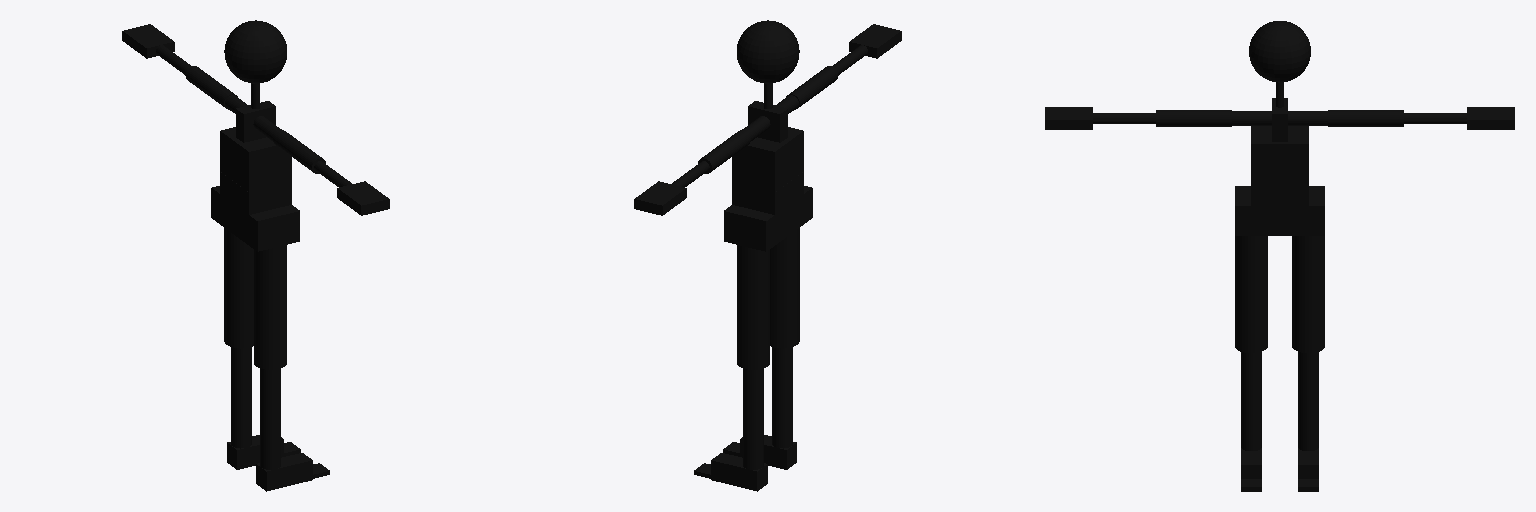
--- Facts derived from the render (not from the file) ---
Views: 3 orthographic renders of the robot side by side, from view 1: azimuth 30°, elevation 25°; view 2: azimuth 150°, elevation 25°; view 3: azimuth 270°, elevation 25°.
Robot: XSensStyleModel_template — 67 links, 66 joints (66 revolute); root link Pelvis; default pose: every joint at zero.
Links seen in each view (by area): view 1: RightUpperLeg, LeftUpperLeg, Head, Pelvis, RightLowerLeg, LeftLowerLeg, T12, L5, L3, RightFoot, RightHand, LeftHand (+4 smaller); view 2: LeftUpperLeg, RightUpperLeg, Head, Pelvis, LeftLowerLeg, RightLowerLeg, T12, L5, L3, LeftFoot, LeftHand, RightHand (+4 smaller); view 3: RightUpperLeg, LeftUpperLeg, Pelvis, Head, RightLowerLeg, LeftLowerLeg, T12, RightUpperArm, LeftUpperArm, L5, L3, RightHand (+8 smaller).
Link boxes in pixels (x1=…): RightUpperLeg: x1=254, y1=245, x2=286, y2=369; LeftUpperLeg: x1=224, y1=228, x2=253, y2=348; Head: x1=224, y1=20, x2=286, y2=83; Pelvis: x1=211, y1=186, x2=299, y2=251; RightLowerLeg: x1=260, y1=369, x2=280, y2=469; LeftLowerLeg: x1=231, y1=347, x2=251, y2=448; T12: x1=220, y1=127, x2=291, y2=171; L5: x1=220, y1=172, x2=291, y2=214; L3: x1=220, y1=151, x2=291, y2=192; RightFoot: x1=256, y1=453, x2=312, y2=491; RightHand: x1=337, y1=181, x2=389, y2=215; LeftHand: x1=122, y1=24, x2=174, y2=58; LeftUpperLeg: x1=737, y1=245, x2=769, y2=369; RightUpperLeg: x1=770, y1=228, x2=799, y2=348; Head: x1=737, y1=20, x2=799, y2=83; Pelvis: x1=724, y1=186, x2=812, y2=251; LeftLowerLeg: x1=743, y1=369, x2=763, y2=469; RightLowerLeg: x1=772, y1=347, x2=792, y2=448; T12: x1=732, y1=127, x2=803, y2=171; L5: x1=732, y1=172, x2=803, y2=214; L3: x1=732, y1=151, x2=803, y2=192; LeftFoot: x1=711, y1=453, x2=767, y2=491; LeftHand: x1=634, y1=181, x2=686, y2=215; RightHand: x1=849, y1=24, x2=901, y2=58; RightUpperLeg: x1=1235, y1=236, x2=1267, y2=352; LeftUpperLeg: x1=1292, y1=236, x2=1324, y2=352; Pelvis: x1=1235, y1=186, x2=1324, y2=235; Head: x1=1249, y1=21, x2=1310, y2=82; RightLowerLeg: x1=1241, y1=352, x2=1261, y2=450; LeftLowerLeg: x1=1298, y1=352, x2=1318, y2=450; T12: x1=1251, y1=126, x2=1308, y2=163; RightUpperArm: x1=1156, y1=110, x2=1231, y2=126; LeftUpperArm: x1=1328, y1=110, x2=1403, y2=126; L5: x1=1251, y1=184, x2=1308, y2=205; L3: x1=1251, y1=164, x2=1308, y2=183; RightHand: x1=1045, y1=107, x2=1092, y2=129.
Size in the robot's own frame: 0.3344 by 1.69 by 1.77 metres.
Geometry: primitives only (box / cylinder / sphere), no mesh files.

robot.urdf — XSensStyleModel_template:
<!--URDF MODEL 66 DoFs-->

<robot name="XSensStyleModel_template">

<material name="color">
    <color rgba="0.1 0.1 0.1 1"/>
</material>

<!--To open this model with Gazebo replace the null masses, inertias and dimensions of the 'fake links f1 and f2'-->
    <!--LINKS-->
	<!--Link base (1)-->
	<link name="Pelvis">
        <inertial>
            <mass value="6.352"/>
			<!--COM origin wrt pHipOrigin-->
            <origin xyz="0           0    0.062435" rpy="0 0 0" />
            <inertia ixx="0.064101" iyy="0.023834" izz="0.07276" ixy="0" ixz="0" iyz="0"/>
        </inertial>

        <visual>
			<!--box origin wrt pHipOrigin-->
            <origin xyz="0           0    0.062435" rpy="0 0 0" />
            <geometry>
                <box size="0.17519     0.32675     0.11973"/>
            </geometry>
            <material name="color"/>
        </visual>

        <collision>
			<!--box origin wrt pHipOrigin-->
            <origin xyz="0           0    0.062435" rpy="0 0 0" />
            <geometry>
                <box size="0.17519     0.32675     0.11973"/>
            </geometry>
        </collision>

    </link>
    <!--Chain from (2) to (7)-->
	<link name="L5_f1">
        <inertial>
            <mass value="0"/>
            <origin xyz="0 0 0" rpy="0 0 0" />
            <inertia ixx="0" iyy="0" izz="0" ixy="0" ixz="0" iyz="0"/>
        </inertial>
    </link>
	<link name="L5_f2">
        <inertial>
            <mass value="0"/>
            <origin xyz="0 0 0" rpy="0 0 0" />
            <inertia ixx="0" iyy="0" izz="0" ixy="0" ixz="0" iyz="0"/>
        </inertial>
    </link>
	<link name="L5">
        <inertial>
            <mass value="8.0988"/>
			<!--COM origin wrt jL5S1-->
            <origin xyz="0           0    0.043965" rpy="0 0 0" />
            <inertia ixx="0.034135" iyy="0.025932" izz="0.049631" ixy="0" ixz="0" iyz="0"/>
        </inertial>

        <visual>
			<!--box origin origin wrt jL5S1-->
            <origin xyz="0           0    0.043965" rpy="0 0 0" />
            <geometry>
                <box size="0.17519     0.20699     0.08793"/>
            </geometry>
            <material name="color"/>
        </visual>

        <collision>
			<!--box origin origin wrt jL5S1-->
            <origin xyz="0           0    0.043965" rpy="0 0 0" />
            <geometry>
                <box size="0.17519     0.20699     0.08793"/>
            </geometry>
        </collision>
    </link>
	<link name="L3_f1">
        <inertial>
            <mass value="0"/>
            <origin xyz="0 0 0" rpy="0 0 0" />
            <inertia ixx="0" iyy="0" izz="0" ixy="0" ixz="0" iyz="0"/>
        </inertial>
    </link>
	<link name="L3_f2">
        <inertial>
            <mass value="0"/>
            <origin xyz="0 0 0" rpy="0 0 0" />
            <inertia ixx="0" iyy="0" izz="0" ixy="0" ixz="0" iyz="0"/>
        </inertial>
    </link>
	<link name="L3">
        <inertial>
            <mass value="8.0988"/>
			<!--COM origin wrt jL4L3-->
            <origin xyz="0           0    0.039709" rpy="0 0 0" />
            <inertia ixx="0.033174" iyy="0.024971" izz="0.049631" ixy="0" ixz="0" iyz="0"/>
        </inertial>

        <visual>
			<!--box origin origin wrt jL4L3-->
            <origin xyz="0           0    0.039709" rpy="0 0 0" />
            <geometry>
                <box size="0.17519     0.20699    0.079417"/>
            </geometry>
            <material name="color"/>
        </visual>

        <collision>
			<!--box origin origin wrt jL4L3-->
            <origin xyz="0           0    0.039709" rpy="0 0 0" />
            <geometry>
                <box size="0.17519     0.20699    0.079417"/>
            </geometry>
        </collision>
    </link>
	<link name="T12_f1">
        <inertial>
            <mass value="0"/>
            <origin xyz="0 0 0" rpy="0 0 0" />
            <inertia ixx="0" iyy="0" izz="0" ixy="0" ixz="0" iyz="0"/>
        </inertial>
    </link>
	<link name="T12_f2">
        <inertial>
            <mass value="0"/>
            <origin xyz="0 0 0" rpy="0 0 0" />
            <inertia ixx="0" iyy="0" izz="0" ixy="0" ixz="0" iyz="0"/>
        </inertial>
    </link>
	<link name="T12">
        <inertial>
            <mass value="8.0988"/>
			<!--COM origin wrt jL1T12-->
            <origin xyz="0           0    0.039709" rpy="0 0 0" />
            <inertia ixx="0.033174" iyy="0.024971" izz="0.049631" ixy="0" ixz="0" iyz="0"/>
        </inertial>

        <visual>
			<!--box origin origin wrt jL1T12-->
            <origin xyz="0           0    0.039709" rpy="0 0 0" />
            <geometry>
                <box size="0.17519     0.20699    0.079417"/>
            </geometry>
            <material name="color"/>
        </visual>

        <collision>
			<!--box origin origin wrt jL1T12-->
            <origin xyz="0           0    0.039709" rpy="0 0 0" />
            <geometry>
                <box size="0.17519     0.20699    0.079417"/>
            </geometry>
        </collision>
    </link>
	<link name="T8_f1">
        <inertial>
            <mass value="0"/>
            <origin xyz="0 0 0" rpy="0 0 0" />
            <inertia ixx="0" iyy="0" izz="0" ixy="0" ixz="0" iyz="0"/>
        </inertial>
    </link>
	<link name="T8_f2">
        <inertial>
            <mass value="0"/>
            <origin xyz="0 0 0" rpy="0 0 0" />
            <inertia ixx="0" iyy="0" izz="0" ixy="0" ixz="0" iyz="0"/>
        </inertial>
    </link>
	<link name="T8">
        <inertial>
            <mass value="3.176"/>
			<!--COM origin wrt jT9T8-->
            <origin xyz="0           0    0.056134" rpy="0 0 0" />
            <inertia ixx="0.0041415" iyy="0.0080363" izz="0.0055061" ixy="0" ixz="0" iyz="0"/>
        </inertial>

        <visual>
			<!--box origin wrt jT9T8-->
            <origin xyz="0           0    0.056134" rpy="0 0 0" />
            <geometry>
                <box size="0.13327    0.055172     0.11227"/>
            </geometry>
            <material name="color"/>
        </visual>

        <collision>
			<!--box origin wrt jT9T8-->
            <origin xyz="0           0    0.056134" rpy="0 0 0" />
            <geometry>
                <box size="0.13327    0.055172     0.11227"/>
            </geometry>
        </collision>

    </link>
	<link name="Neck_f1">
        <inertial>
            <mass value="0"/>
            <origin xyz="0 0 0" rpy="0 0 0" />
            <inertia ixx="0" iyy="0" izz="0" ixy="0" ixz="0" iyz="0"/>
        </inertial>
    </link>
	<link name="Neck_f2">
        <inertial>
            <mass value="0"/>
            <origin xyz="0 0 0" rpy="0 0 0" />
            <inertia ixx="0" iyy="0" izz="0" ixy="0" ixz="0" iyz="0"/>
        </inertial>
    </link>
	<link name="Neck">
        <inertial>
            <mass value="0.9528"/>
			<!--COM origin wrt jT1C7-->
            <origin xyz="0           0    0.052133" rpy="0 0 0" />
            <inertia ixx="0.0011087" iyy="0.0011087" izz="0.00049098" ixy="0" ixz="0" iyz="0"/>
        </inertial>

        <visual>
			<!--box origin wrt jT1C7-->
            <origin xyz="0           0    0.052133" rpy="0 0 0" />
            <geometry>
		<cylinder length="0.10427" radius="0.016051"/>
            </geometry>
            <material name="color"/>
        </visual>

        <collision>
			<!--box origin wrt jT1C7-->
            <origin xyz="0           0    0.052133" rpy="0 0 0" />
            <geometry>
                <cylinder length="0.10427" radius="0.016051"/>
            </geometry>
        </collision>
    </link>
	<link name="Head_f1">
        <inertial>
            <mass value="0"/>
            <origin xyz="0 0 0" rpy="0 0 0" />
            <inertia ixx="0" iyy="0" izz="0" ixy="0" ixz="0" iyz="0"/>
        </inertial>
    </link>
	<link name="Head_f2">
        <inertial>
            <mass value="0"/>
            <origin xyz="0 0 0" rpy="0 0 0" />
            <inertia ixx="0" iyy="0" izz="0" ixy="0" ixz="0" iyz="0"/>
        </inertial>
    </link>
	<link name="Head">
        <inertial>
            <mass value="2.8584"/>
			<!--COM origin wrt jC1Head-->
            <origin xyz="0           0     0.11223" rpy="0 0 0" />
            <inertia ixx="0.0144" iyy="0.0144" izz="0.0144" ixy="0" ixz="0" iyz="0"/>
        </inertial>

        <visual>
			<!--boc origin wrt jC1Head-->
            <origin xyz="0           0     0.11223" rpy="0 0 0" />
            <geometry>
                <sphere radius="0.11223"/>
            </geometry>
            <material name="color"/>
        </visual>

        <collision>
			<!--box origin wrt jC1Head-->
            <origin xyz="0           0     0.11223" rpy="0 0 0" />
            <geometry>
                <sphere radius="0.11223"/>
            </geometry>
        </collision>

    </link>
	<!--Chain from (8) to (11)-->
	<link name="RightShoulder_f1">
        <inertial>
            <mass value="0"/>
            <origin xyz="0 0 0" rpy="0 0 0" />
            <inertia ixx="0" iyy="0" izz="0" ixy="0" ixz="0" iyz="0"/>
        </inertial>
    </link>
	<link name="RightShoulder_f2">
        <inertial>
            <mass value="0"/>
            <origin xyz="0 0 0" rpy="0 0 0" />
            <inertia ixx="0" iyy="0" izz="0" ixy="0" ixz="0" iyz="0"/>
        </inertial>
    </link>
	<link name="RightShoulder">
        <inertial>
            <mass value="2.4614"/>
			<!--COM origin wrt jRightC7Shoulder-->
            <origin xyz="0   -0.073328           0" rpy="0 0 0" />
            <inertia ixx="0.0048377" iyy="0.0008521" izz="0.0048377" ixy="0" ixz="0" iyz="0"/>
        </inertial>

        <visual>
			<!--box origin wrt jRightC7Shoulder. RPY rotated of pi/2.-->
            <origin xyz="0   -0.073328           0" rpy="1.5708 0 0" />
            <geometry>
                <cylinder length="0.14666" radius="0.026313"/>
            </geometry>
            <material name="color"/>
        </visual>

        <collision>
			<!--box origin wrt jRightC7Shoulder. RPY rotated of pi/2.-->
            <origin xyz="0   -0.073328           0" rpy="1.5708 0 0" />
            <geometry>
                <cylinder length="0.14666" radius="0.026313"/>
            </geometry>
        </collision>

    </link>
	<link name="RightUpperArm_f1">
        <inertial>
            <mass value="0"/>
            <origin xyz="0 0 0" rpy="0 0 0" />
            <inertia ixx="0" iyy="0" izz="0" ixy="0" ixz="0" iyz="0"/>
        </inertial>
    </link>
	<link name="RightUpperArm_f2">
        <inertial>
            <mass value="0"/>
            <origin xyz="0 0 0" rpy="0 0 0" />
            <inertia ixx="0" iyy="0" izz="0" ixy="0" ixz="0" iyz="0"/>
        </inertial>
    </link>
    <link name="RightUpperArm">
        <inertial>
            <mass value="2.382"/>
			<!--COM origin wrt jRightShoulder-->
            <origin xyz="0     -0.1369           0" rpy="0 0 0" />
            <inertia ixx="0.015417" iyy="0.0010729" izz="0.015417" ixy="0" ixz="0" iyz="0"/>
        </inertial>

        <visual>
			<!--box origin wrt jRightShoulder. RPY rotated of pi/2.-->
            <origin xyz="0     -0.1369           0" rpy="1.5708 0 0" />
            <geometry>
                <cylinder length="0.27379" radius="0.030014"/>
            </geometry>
            <material name="color"/>
        </visual>

        <collision>
			<!--box origin wrt jRightShoulder. RPY rotated of pi/2.-->
            <origin xyz="0     -0.1369           0" rpy="1.5708 0 0" />
            <geometry>
                <cylinder length="0.27379" radius="0.030014"/>
            </geometry>
        </collision>

    </link>
	<link name="RightForeArm_f1">
        <inertial>
            <mass value="0"/>
            <origin xyz="0 0 0" rpy="0 0 0" />
            <inertia ixx="0" iyy="0" izz="0" ixy="0" ixz="0" iyz="0"/>
        </inertial>
    </link>
	<link name="RightForeArm_f2">
        <inertial>
            <mass value="0"/>
            <origin xyz="0 0 0" rpy="0 0 0" />
            <inertia ixx="0" iyy="0" izz="0" ixy="0" ixz="0" iyz="0"/>
        </inertial>
    </link>
	<link name="RightForeArm">
        <inertial>
            <mass value="1.588"/>
			<!--COM origin wrt jRightElbow-->
            <origin xyz="0    -0.11359           0" rpy="0 0 0" />
            <inertia ixx="0.0069888" iyy="0.0003179" izz="0.0069888" ixy="0" ixz="0" iyz="0"/>
        </inertial>

        <visual>
			<!--box origin wrt jRightElbow. RPY rotated of pi/2.-->
            <origin xyz="0    -0.11359           0" rpy="1.5708 0 0" />
            <geometry>
                <cylinder length="0.22718" radius="0.020009"/>
            </geometry>
            <material name="color"/>
        </visual>

        <collision>
			<!--box origin wrt jRightElbow. RPY rotated of pi/2.-->
            <origin xyz="0    -0.11359           0" rpy="1.5708 0 0" />
            <geometry>
                <cylinder length="0.22718" radius="0.020009"/>
            </geometry>
        </collision>

    </link>
	<link name="RightHand_f1">
        <inertial>
            <mass value="0"/>
            <origin xyz="0 0 0" rpy="0 0 0" />
            <inertia ixx="0" iyy="0" izz="0" ixy="0" ixz="0" iyz="0"/>
        </inertial>
    </link>
	<link name="RightHand_f2">
        <inertial>
            <mass value="0"/>
            <origin xyz="0 0 0" rpy="0 0 0" />
            <inertia ixx="0" iyy="0" izz="0" ixy="0" ixz="0" iyz="0"/>
        </inertial>
    </link>
	<link name="RightHand">
        <inertial>
            <mass value="0.4764"/>
			<!--COM origin wrt jRightWrist-->
            <origin xyz="0   -0.086009           0" rpy="0 0 0" />
            <inertia ixx="0.0012383" iyy="0.00058568" izz="0.0016968" ixy="0" ixz="0" iyz="0"/>
        </inertial>

        <visual>
			<!--box origin wrt jRightWrist-->
            <origin xyz="0   -0.086009           0" rpy="0 0 0" />
            <geometry>
                <box size="0.11468     0.17202    0.040019"/>
            </geometry>
            <material name="color"/>
        </visual>

        <collision>
			<!--box origin wrt jRightWrist-->
            <origin xyz="0   -0.086009           0" rpy="0 0 0" />
            <geometry>
                <box size="0.11468     0.17202    0.040019"/>
            </geometry>
        </collision>

    </link>
	<!--Chain from (12) to (15)-->
	<link name="LeftShoulder_f1">
        <inertial>
            <mass value="0"/>
            <origin xyz="0 0 0" rpy="0 0 0" />
            <inertia ixx="0" iyy="0" izz="0" ixy="0" ixz="0" iyz="0"/>
        </inertial>
    </link>
	<link name="LeftShoulder_f2">
        <inertial>
            <mass value="0"/>
            <origin xyz="0 0 0" rpy="0 0 0" />
            <inertia ixx="0" iyy="0" izz="0" ixy="0" ixz="0" iyz="0"/>
        </inertial>
    </link>
	<link name="LeftShoulder">
        <inertial>
            <mass value="2.4614"/>
			<!--COM origin wrt jLeftC7Shoulder-->
            <origin xyz="0    0.073328           0" rpy="0 0 0" />
            <inertia ixx="0.0048377" iyy="0.0008521" izz="0.0048377" ixy="0" ixz="0" iyz="0"/>
        </inertial>

        <visual>
			<!--box origin wrt jLeftC7Shoulder. RPY rotated of pi/2.-->
            <origin xyz="0    0.073328           0" rpy="1.5708 0 0" />
            <geometry>
                <cylinder length="0.14666" radius="0.026313"/>
            </geometry>
            <material name="color"/>
        </visual>

        <collision>
			<!--box origin wrt jLeftC7Shoulder. RPY rotated of pi/2.-->
            <origin xyz="0    0.073328           0" rpy="1.5708 0 0" />
            <geometry>
                <cylinder length="0.14666" radius="0.026313"/>
            </geometry>
        </collision>

    </link>
	<link name="LeftUpperArm_f1">
        <inertial>
            <mass value="0"/>
            <origin xyz="0 0 0" rpy="0 0 0" />
            <inertia ixx="0" iyy="0" izz="0" ixy="0" ixz="0" iyz="0"/>
        </inertial>
    </link>
	<link name="LeftUpperArm_f2">
        <inertial>
            <mass value="0"/>
            <origin xyz="0 0 0" rpy="0 0 0" />
            <inertia ixx="0" iyy="0" izz="0" ixy="0" ixz="0" iyz="0"/>
        </inertial>
    </link>
	<link name="LeftUpperArm">
        <inertial>
            <mass value="2.382"/>
			<!--COM origin wrt jLeftShoulder-->
            <origin xyz="0      0.1369           0" rpy="0 0 0" />
            <inertia ixx="0.015417" iyy="0.0010729" izz="0.015417" ixy="0" ixz="0" iyz="0"/>
        </inertial>

        <visual>
			<!--box origin wrt jLeftShoulder. RPY rotated of pi/2.-->
            <origin xyz="0      0.1369           0" rpy="1.5708 0 0" />
            <geometry>
                <cylinder length="0.27379" radius="0.030014"/>
            </geometry>
            <material name="color"/>
        </visual>

        <collision>
			<!--box origin wrt jLeftShoulder. RPY rotated of pi/2.-->
            <origin xyz="0      0.1369           0" rpy="1.5708 0 0" />
            <geometry>
                <cylinder length="0.27379" radius="0.030014"/>
            </geometry>
        </collision>

    </link>
	<link name="LeftForeArm_f1">
        <inertial>
            <mass value="0"/>
            <origin xyz="0 0 0" rpy="0 0 0" />
            <inertia ixx="0" iyy="0" izz="0" ixy="0" ixz="0" iyz="0"/>
        </inertial>
    </link>
	<link name="LeftForeArm_f2">
        <inertial>
            <mass value="0"/>
            <origin xyz="0 0 0" rpy="0 0 0" />
            <inertia ixx="0" iyy="0" izz="0" ixy="0" ixz="0" iyz="0"/>
        </inertial>
    </link>
	<link name="LeftForeArm">
        <inertial>
            <mass value="1.588"/>
			<!--COM origin wrt jLeftElbow-->
            <origin xyz="0     0.11359           0" rpy="0 0 0" />
            <inertia ixx="0.0069888" iyy="0.0003179" izz="0.0069888" ixy="0" ixz="0" iyz="0"/>
        </inertial>

        <visual>
			<!--box origin wrt jLeftElbow. RPY rotated of pi/2.-->
            <origin xyz="0     0.11359           0" rpy="1.5708 0 0" />
            <geometry>
                <cylinder length="0.22718" radius="0.020009"/>
            </geometry>
            <material name="color"/>
        </visual>

        <collision>
			<!--box origin wrt jLeftElbow. RPY rotated of pi/2.-->
            <origin xyz="0     0.11359           0" rpy="1.5708 0 0" />
            <geometry>
                <cylinder length="0.22718" radius="0.020009"/>
            </geometry>
        </collision>

    </link>
	<link name="LeftHand_f1">
        <inertial>
            <mass value="0"/>
            <origin xyz="0 0 0" rpy="0 0 0" />
            <inertia ixx="0" iyy="0" izz="0" ixy="0" ixz="0" iyz="0"/>
        </inertial>
    </link>
	<link name="LeftHand_f2">
        <inertial>
            <mass value="0"/>
            <origin xyz="0 0 0" rpy="0 0 0" />
            <inertia ixx="0" iyy="0" izz="0" ixy="0" ixz="0" iyz="0"/>
        </inertial>
    </link>
	<link name="LeftHand">
        <inertial>
            <mass value="0.4764"/>
			<!--COM origin wrt jLeftWrist-->
            <origin xyz="0    0.086009           0" rpy="0 0 0" />
            <inertia ixx="0.0012383" iyy="0.00058568" izz="0.0016968" ixy="0" ixz="0" iyz="0"/>
        </inertial>

        <visual>
			<!--COM origin wrt jLeftWrist-->
            <origin xyz="0    0.086009           0" rpy="0 0 0" />
            <geometry>
                <box size="0.11468     0.17202    0.040019"/>
            </geometry>
            <material name="color"/>
        </visual>

        <collision>
			<!--COM origin wrt jLeftWrist-->
            <origin xyz="0    0.086009           0" rpy="0 0 0" />
            <geometry>
                <box size="0.11468     0.17202    0.040019"/>
            </geometry>
        </collision>

    </link>
	<!--Chain from (16) to (19)-->
	<link name="RightUpperLeg_f1">
        <inertial>
            <mass value="0"/>
            <origin xyz="0 0 0" rpy="0 0 0" />
            <inertia ixx="0" iyy="0" izz="0" ixy="0" ixz="0" iyz="0"/>
        </inertial>
    </link>
	<link name="RightUpperLeg_f2">
        <inertial>
            <mass value="0"/>
            <origin xyz="0 0 0" rpy="0 0 0" />
            <inertia ixx="0" iyy="0" izz="0" ixy="0" ixz="0" iyz="0"/>
        </inertial>
    </link>
    <link name="RightUpperLeg">
        <inertial>
            <mass value="9.925"/>
			<!--COM origin wrt jRightHip-->
            <origin xyz="0           0    -0.23901" rpy="0 0 0" />
            <inertia ixx="0.19802" iyy="0.19802" izz="0.018047" ixy="0" ixz="0" iyz="0"/>
        </inertial>

        <visual>
			<!--box origin wrt jRightHip-->
            <origin xyz="0           0    -0.23901" rpy="0 0 0" />
            <geometry>
                <cylinder length="0.47802" radius="0.060305"/>
            </geometry>
            <material name="color"/>
        </visual>

        <collision>
			<!--box origin wrt jRightHip-->
            <origin xyz="0           0    -0.23901" rpy="0 0 0" />
            <geometry>
                <cylinder length="0.47802" radius="0.060305"/>
            </geometry>
        </collision>

    </link>
	<link name="RightLowerLeg_f1">
        <inertial>
            <mass value="0"/>
            <origin xyz="0 0 0" rpy="0 0 0" />
            <inertia ixx="0" iyy="0" izz="0" ixy="0" ixz="0" iyz="0"/>
        </inertial>
    </link>
	<link name="RightLowerLeg_f2">
        <inertial>
            <mass value="0"/>
            <origin xyz="0 0 0" rpy="0 0 0" />
            <inertia ixx="0" iyy="0" izz="0" ixy="0" ixz="0" iyz="0"/>
        </inertial>
    </link>
    <link name="RightLowerLeg">
        <inertial>
            <mass value="2.8981"/>
			<!--COM origin wrt jRightKnee-->
            <origin xyz="0           0    -0.20089" rpy="0 0 0" />
            <inertia ixx="0.039987" iyy="0.039987" izz="0.0019991" ixy="0" ixz="0" iyz="0"/>
        </inertial>

        <visual>
			<!--box origin wrt jRightKnee-->
            <origin xyz="0           0    -0.20089" rpy="0 0 0" />
            <geometry>
                <cylinder length="0.40179" radius="0.037143"/>
            </geometry>
            <material name="color"/>
        </visual>

        <collision>
			<!--box origin wrt jRightKnee-->
            <origin xyz="0           0    -0.20089" rpy="0 0 0" />
            <geometry>
                <cylinder length="0.40179" radius="0.037143"/>
            </geometry>
        </collision>

    </link>
	<link name="RightFoot_f1">
        <inertial>
            <mass value="0"/>
            <origin xyz="0 0 0" rpy="0 0 0" />
            <inertia ixx="0" iyy="0" izz="0" ixy="0" ixz="0" iyz="0"/>
        </inertial>
    </link>
	<link name="RightFoot_f2">
        <inertial>
            <mass value="0"/>
            <origin xyz="0 0 0" rpy="0 0 0" />
            <inertia ixx="0" iyy="0" izz="0" ixy="0" ixz="0" iyz="0"/>
        </inertial>
    </link>
    <link name="RightFoot">
        <inertial>
            <mass value="1.0322"/>
			<!--COM origin wrt jRightAnkle-->
            <origin xyz="0.057127           0   -0.039048" rpy="0 0 0" />
            <inertia ixx="0.0009993" iyy="0.0036296" izz="0.0035796" ixy="0" ixz="0" iyz="0"/>
        </inertial>

        <visual>
			<!--box origin wrt jRightAnkle-->
	    	<origin xyz="0.057127           0   -0.039048" rpy="0 0 0" />
            <geometry>
                <box size="0.18999    0.074286    0.078097"/>
            </geometry>
            <material name="color"/>
        </visual>

        <collision>
			<!--box origin wrt jRightAnkle-->
		    <origin xyz="0.057127           0   -0.039048" rpy="0 0 0" />
	            <geometry>
	                <box size="0.18999    0.074286    0.078097"/>
	            </geometry>
        </collision>

    </link>
	<link name="RightToe_f1">
        <inertial>
            <mass value="0"/>
            <origin xyz="0 0 0" rpy="0 0 0" />
            <inertia ixx="0" iyy="0" izz="0" ixy="0" ixz="0" iyz="0"/>
        </inertial>
    </link>
	<link name="RightToe_f2">
        <inertial>
            <mass value="0"/>
            <origin xyz="0 0 0" rpy="0 0 0" />
            <inertia ixx="0" iyy="0" izz="0" ixy="0" ixz="0" iyz="0"/>
        </inertial>
    </link>
    <link name="RightToe">
        <inertial>
            <mass value="0.1191"/>
			<!--COM origin wrt jRightBallFoot-->
            <origin xyz="0.035003           0           0" rpy="0 0 0" />
            <inertia ixx="5.7319e-05" iyy="5.119e-05" izz="0.00010341" ixy="0" ixz="0" iyz="0"/>
        </inertial>

        <visual>
			<!--box origin wrt jRightBallFoot-->
            <origin xyz="0.035003           0           0" rpy="0 0 0" />
            <geometry>
                <box size="0.070006    0.074286    0.016026"/>
            </geometry>
            <material name="color"/>
        </visual>

        <collision>
			<!--box origin wrt jRightBallFoot-->
            <origin xyz="0.035003           0           0" rpy="0 0 0" />
            <geometry>
                <box size="0.070006    0.074286    0.016026"/>
            </geometry>
        </collision>
    </link>
	<!--Chain from (20) to (23)-->
	<link name="LeftUpperLeg_f1">
        <inertial>
            <mass value="0"/>
            <origin xyz="0 0 0" rpy="0 0 0" />
            <inertia ixx="0" iyy="0" izz="0" ixy="0" ixz="0" iyz="0"/>
        </inertial>
    </link>
	<link name="LeftUpperLeg_f2">
        <inertial>
            <mass value="0"/>
            <origin xyz="0 0 0" rpy="0 0 0" />
            <inertia ixx="0" iyy="0" izz="0" ixy="0" ixz="0" iyz="0"/>
        </inertial>
    </link>
    <link name="LeftUpperLeg">
        <inertial>
            <mass value="9.925"/>
			<!--COM origin wrt jLeftHip-->
            <origin xyz="0           0    -0.23901" rpy="0 0 0" />
            <inertia ixx="0.19802" iyy="0.19802" izz="0.018047" ixy="0" ixz="0" iyz="0"/>
        </inertial>

        <visual>
			<!--box origin wrt jLeftHip-->
            <origin xyz="0           0    -0.23901" rpy="0 0 0" />
            <geometry>
                <cylinder length="0.47802" radius="0.060305"/>
            </geometry>
            <material name="color"/>
        </visual>

        <collision>
			<!--box origin wrt jLeftHip-->
            <origin xyz="0           0    -0.23901" rpy="0 0 0" />
            <geometry>
                <cylinder length="0.47802" radius="0.060305"/>
            </geometry>
        </collision>

    </link>
	<link name="LeftLowerLeg_f1">
        <inertial>
            <mass value="0"/>
            <origin xyz="0 0 0" rpy="0 0 0" />
            <inertia ixx="0" iyy="0" izz="0" ixy="0" ixz="0" iyz="0"/>
        </inertial>
    </link>
	<link name="LeftLowerLeg_f2">
        <inertial>
            <mass value="0"/>
            <origin xyz="0 0 0" rpy="0 0 0" />
            <inertia ixx="0" iyy="0" izz="0" ixy="0" ixz="0" iyz="0"/>
        </inertial>
    </link>
	<link name="LeftLowerLeg">
        <inertial>
            <mass value="2.8981"/>
			<!--COM origin wrt jLeftKnee-->
            <origin xyz="0           0    -0.20089" rpy="0 0 0" />
            <inertia ixx="0.039987" iyy="0.039987" izz="0.0019991" ixy="0" ixz="0" iyz="0"/>
        </inertial>

        <visual>
			<!--box origin wrt jLeftKnee-->
            <origin xyz="0           0    -0.20089" rpy="0 0 0" />
            <geometry>
		<cylinder length="0.40179" radius="0.037143"/>
            </geometry>
            <material name="color"/>
        </visual>

        <collision>
			<!--box origin wrt jLeftKnee-->
            <origin xyz="0           0    -0.20089" rpy="0 0 0" />
            <geometry>
		<cylinder length="0.40179" radius="0.037143"/>
            </geometry>
        </collision>

    </link>
	<link name="LeftFoot_f1">
        <inertial>
            <mass value="0"/>
            <origin xyz="0 0 0" rpy="0 0 0" />
            <inertia ixx="0" iyy="0" izz="0" ixy="0" ixz="0" iyz="0"/>
        </inertial>
    </link>
	<link name="LeftFoot_f2">
        <inertial>
            <mass value="0"/>
            <origin xyz="0 0 0" rpy="0 0 0" />
            <inertia ixx="0" iyy="0" izz="0" ixy="0" ixz="0" iyz="0"/>
        </inertial>
    </link>
    <link name="LeftFoot">
        <inertial>
            <mass value="1.0322"/>
			<!--COM origin wrt jLeftAnkle-->
            <origin xyz="0.057127           0   -0.039048" rpy="0 0 0" />
            <inertia ixx="0.0009993" iyy="0.0036296" izz="0.0035796" ixy="0" ixz="0" iyz="0"/>
        </inertial>

        <visual>
			<!--box origin wrt jLeftAnkle-->
	   	 	<origin xyz="0.057127           0   -0.039048" rpy="0 0 0" />
            <geometry>
                <box size="0.18999    0.074286    0.078097"/>
            </geometry>
            <material name="color"/>
        </visual>

        <collision>
			<!--box origin wrt jLeftAnkle-->
		    <origin xyz="0.057127           0   -0.039048" rpy="0 0 0" />
	            <geometry>
	                <box size="0.18999    0.074286    0.078097"/>
	            </geometry>
        </collision>

    </link>
	<link name="LeftToe_f1">
        <inertial>
            <mass value="0"/>
            <origin xyz="0 0 0" rpy="0 0 0" />
            <inertia ixx="0" iyy="0" izz="0" ixy="0" ixz="0" iyz="0"/>
        </inertial>
    </link>
	<link name="LeftToe_f2">
        <inertial>
            <mass value="0"/>
            <origin xyz="0 0 0" rpy="0 0 0" />
            <inertia ixx="0" iyy="0" izz="0" ixy="0" ixz="0" iyz="0"/>
        </inertial>
    </link>
	<link name="LeftToe">
        <inertial>
            <mass value="0.1191"/>
			<!--COM origin wrt jLeftBallFoot-->
            <origin xyz="0.035003           0           0" rpy="0 0 0" />
            <inertia ixx="5.7319e-05" iyy="5.119e-05" izz="0.00010341" ixy="0" ixz="0" iyz="0"/>
        </inertial>

        <visual>
			<!--box origin wrt jLeftBallFoot-->
            <origin xyz="0.035003           0           0" rpy="0 0 0" />
            <geometry>
                <box size="0.070006    0.074286    0.016026"/>
            </geometry>
            <material name="color"/>
        </visual>

        <collision>
			<!--box origin wrt jLeftBallFoot-->
            <origin xyz="0.035003           0           0" rpy="0 0 0" />
            <geometry>
                <box size="0.070006    0.074286    0.016026"/>
            </geometry>
        </collision>
    </link>


	<!--JOINTS-->
	<!--Chain from (2) to (7)-->
	<joint name="jL5S1_rotx" type="revolute">
        <origin xyz="-0.000525           0      0.1223" rpy="0 0 0"/>
        <parent link="Pelvis"/>
        <child link="L5_f1"/>
        <dynamics damping="0.1" friction="0.0"/>
        <limit effort="30" velocity="1.0" lower="-10.0" upper="10.0" />
        <axis xyz="1 0 0" />
    </joint>
	<joint name="jL5S1_roty" type="revolute">
        <origin xyz="0 0 0" rpy="0 0 0"/>
        <parent link="L5_f1"/>
        <child link="L5_f2"/>
        <dynamics damping="0.1" friction="0.0"/>
        <limit effort="30" velocity="1.0" lower="-10.0" upper="10.0" />
        <axis xyz="0 1 0" />
    </joint>
    <joint name="jL5S1_rotz" type="revolute">
        <origin xyz="0 0 0" rpy="0 0 0"/>
        <parent link="L5_f2"/>
        <child link="L5"/>
        <dynamics damping="0.1" friction="0.0"/>
        <limit effort="30" velocity="1.0" lower="-10.0" upper="10.0" />
        <axis xyz="0 0 1" />
    </joint>
	<joint name="jL4L3_rotx" type="revolute">
        <origin xyz="0.000953           0     0.08793" rpy="0 0 0"/>
        <parent link="L5"/>
        <child link="L3_f1"/>
        <dynamics damping="0.1" friction="0.0"/>
        <limit effort="30" velocity="1.0" lower="-10.0" upper="10.0" />
        <axis xyz="1 0 0" />
    </joint>
	<joint name="jL4L3_roty" type="revolute">
        <origin xyz="0 0 0" rpy="0 0 0"/>
        <parent link="L3_f1"/>
        <child link="L3_f2"/>
        <dynamics damping="0.1" friction="0.0"/>
        <limit effort="30" velocity="1.0" lower="-10.0" upper="10.0" />
        <axis xyz="0 1 0" />
    </joint>
    <joint name="jL4L3_rotz" type="revolute">
        <origin xyz="0 0 0" rpy="0 0 0"/>
        <parent link="L3_f2"/>
        <child link="L3"/>
        <dynamics damping="0.1" friction="0.0"/>
        <limit effort="30" velocity="1.0" lower="-10.0" upper="10.0" />
        <axis xyz="0 0 1" />
    </joint>
	<joint name="jL1T12_rotx" type="revolute">
        <origin xyz="0           0    0.079417" rpy="0 0 0"/>
        <parent link="L3"/>
        <child link="T12_f1"/>
        <dynamics damping="0.1" friction="0.0"/>
        <limit effort="30" velocity="1.0" lower="-10.0" upper="10.0" />
        <axis xyz="1 0 0" />
    </joint>
	<joint name="jL1T12_roty" type="revolute">
        <origin xyz="0 0 0" rpy="0 0 0"/>
        <parent link="T12_f1"/>
        <child link="T12_f2"/>
        <dynamics damping="0.1" friction="0.0"/>
        <limit effort="30" velocity="1.0" lower="-10.0" upper="10.0" />
        <axis xyz="0 1 0" />
    </joint>
    <joint name="jL1T12_rotz" type="revolute">
        <origin xyz="0 0 0" rpy="0 0 0"/>
        <parent link="T12_f2"/>
        <child link="T12"/>
        <dynamics damping="0.1" friction="0.0"/>
        <limit effort="30" velocity="1.0" lower="-10.0" upper="10.0" />
        <axis xyz="0 0 1" />
    </joint>
	<joint name="jT9T8_rotx" type="revolute">
        <origin xyz="0           0    0.079417" rpy="0 0 0"/>
        <parent link="T12"/>
        <child link="T8_f1"/>
        <dynamics damping="0.1" friction="0.0"/>
        <limit effort="30" velocity="1.0" lower="-10.0" upper="10.0" />
        <axis xyz="1 0 0" />
    </joint>
	<joint name="jT9T8_roty" type="revolute">
        <origin xyz="0 0 0" rpy="0 0 0"/>
        <parent link="T8_f1"/>
        <child link="T8_f2"/>
        <dynamics damping="0.1" friction="0.0"/>
        <limit effort="30" velocity="1.0" lower="-10.0" upper="10.0" />
        <axis xyz="0 1 0" />
    </joint>
    <joint name="jT9T8_rotz" type="revolute">
        <origin xyz="0 0 0" rpy="0 0 0"/>
        <parent link="T8_f2"/>
        <child link="T8"/>
        <dynamics damping="0.1" friction="0.0"/>
        <limit effort="30" velocity="1.0" lower="-10.0" upper="10.0" />
        <axis xyz="0 0 1" />
    </joint>
	<joint name="jT1C7_rotx" type="revolute">
        <origin xyz="0           0     0.11227" rpy="0 0 0"/>
        <parent link="T8"/>
        <child link="Neck_f1"/>
        <dynamics damping="0.1" friction="0.0"/>
        <limit effort="30" velocity="1.0" lower="-10.0" upper="10.0" />
        <axis xyz="1 0 0" />
    </joint>
	<joint name="jT1C7_roty" type="revolute">
        <origin xyz="0 0 0" rpy="0 0 0"/>
        <parent link="Neck_f1"/>
        <child link="Neck_f2"/>
        <dynamics damping="0.1" friction="0.0"/>
        <limit effort="30" velocity="1.0" lower="-10.0" upper="10.0" />
        <axis xyz="0 1 0" />
    </joint>
    <joint name="jT1C7_rotz" type="revolute">
        <origin xyz="0 0 0" rpy="0 0 0"/>
        <parent link="Neck_f2"/>
        <child link="Neck"/>
        <dynamics damping="0.1" friction="0.0"/>
        <limit effort="30" velocity="1.0" lower="-10.0" upper="10.0" />
        <axis xyz="0 0 1" />
    </joint>
	<joint name="jC1Head_rotx" type="revolute">
        <origin xyz="-0.000154           0     0.10427" rpy="0 0 0"/>
        <parent link="Neck"/>
        <child link="Head_f1"/>
        <dynamics damping="0.1" friction="0.0"/>
        <limit effort="30" velocity="1.0" lower="-10.0" upper="10.0" />
        <axis xyz="1 0 0" />
    </joint>
	<joint name="jC1Head_roty" type="revolute">
        <origin xyz="0 0 0" rpy="0 0 0"/>
        <parent link="Head_f1"/>
        <child link="Head_f2"/>
        <dynamics damping="0.1" friction="0.0"/>
        <limit effort="30" velocity="1.0" lower="-10.0" upper="10.0" />
        <axis xyz="0 1 0" />
    </joint>
    <joint name="jC1Head_rotz" type="revolute">
        <origin xyz="0 0 0" rpy="0 0 0"/>
        <parent link="Head_f2"/>
        <child link="Head"/>
        <dynamics damping="0.1" friction="0.0"/>
        <limit effort="30" velocity="1.0" lower="-10.0" upper="10.0" />
        <axis xyz="0 0 1" />
    </joint>
	<!--Chain from (8) to (11)-->
	<joint name="jRightC7Shoulder_rotx" type="revolute">
        <origin xyz="0   -0.027586    0.063241" rpy="0 0 0"/>
        <parent link="T8"/>
        <child link="RightShoulder_f1"/>
        <dynamics damping="0.1" friction="0.0"/>
        <limit effort="30" velocity="1.0" lower="-10.0" upper="10.0" />
        <axis xyz="1 0 0" />
    </joint>
	<joint name="jRightC7Shoulder_roty" type="revolute">
        <origin xyz="0 0 0" rpy="0 0 0"/>
        <parent link="RightShoulder_f1"/>
        <child link="RightShoulder_f2"/>
        <dynamics damping="0.1" friction="0.0"/>
        <limit effort="30" velocity="1.0" lower="-10.0" upper="10.0" />
        <axis xyz="0 1 0" />
    </joint>
    <joint name="jRightC7Shoulder_rotz" type="revolute">
        <origin xyz="0 0 0" rpy="0 0 0"/>
        <parent link="RightShoulder_f2"/>
        <child link="RightShoulder"/>
        <dynamics damping="0.1" friction="0.0"/>
        <limit effort="30" velocity="1.0" lower="-10.0" upper="10.0" />
        <axis xyz="0 0 1" />
    </joint>
	<joint name="jRightShoulder_rotx" type="revolute">
        <origin xyz="0    -0.14666           0" rpy="0 0 0"/>
        <parent link="RightShoulder"/>
        <child link="RightUpperArm_f1"/>
        <dynamics damping="0.1" friction="0.0"/>
        <limit effort="30" velocity="1.0" lower="-10.0" upper="10.0" />
        <axis xyz="1 0 0" />
    </joint>
	<joint name="jRightShoulder_roty" type="revolute">
        <origin xyz="0 0 0" rpy="0 0 0"/>
        <parent link="RightUpperArm_f1"/>
        <child link="RightUpperArm_f2"/>
        <dynamics damping="0.1" friction="0.0"/>
        <limit effort="30" velocity="1.0" lower="-10.0" upper="10.0" />
        <axis xyz="0 1 0" />
    </joint>
    <joint name="jRightShoulder_rotz" type="revolute">
        <origin xyz="0 0 0" rpy="0 0 0"/>
        <parent link="RightUpperArm_f2"/>
        <child link="RightUpperArm"/>
        <dynamics damping="0.1" friction="0.0"/>
        <limit effort="30" velocity="1.0" lower="-10.0" upper="10.0" />
        <axis xyz="0 0 1" />
    </joint>
	<joint name="jRightElbow_rotx" type="revolute">
        <origin xyz="0    -0.27379           0" rpy="0 0 0"/>
        <parent link="RightUpperArm"/>
        <child link="RightForeArm_f1"/>
        <dynamics damping="0.1" friction="0.0"/>
        <limit effort="30" velocity="1.0" lower="-10.0" upper="10.0" />
        <axis xyz="1 0 0" />
    </joint>
	<joint name="jRightElbow_roty" type="revolute">
        <origin xyz="0 0 0" rpy="0 0 0"/>
        <parent link="RightForeArm_f1"/>
        <child link="RightForeArm_f2"/>
        <dynamics damping="0.1" friction="0.0"/>
        <limit effort="30" velocity="1.0" lower="-10.0" upper="10.0" />
        <axis xyz="0 1 0" />
    </joint>
    <joint name="jRightElbow_rotz" type="revolute">
        <origin xyz="0 0 0" rpy="0 0 0"/>
        <parent link="RightForeArm_f2"/>
        <child link="RightForeArm"/>
        <dynamics damping="0.1" friction="0.0"/>
        <limit effort="30" velocity="1.0" lower="-10.0" upper="10.0" />
        <axis xyz="0 0 1" />
    </joint>
	<joint name="jRightWrist_rotx" type="revolute">
        <origin xyz="0.000133    -0.22718           0" rpy="0 0 0"/>
        <parent link="RightForeArm"/>
        <child link="RightHand_f1"/>
        <dynamics damping="0.1" friction="0.0"/>
        <limit effort="30" velocity="1.0" lower="-10.0" upper="10.0" />
        <axis xyz="1 0 0" />
    </joint>
	<joint name="jRightWrist_roty" type="revolute">
        <origin xyz="0 0 0" rpy="0 0 0"/>
        <parent link="RightHand_f1"/>
        <child link="RightHand_f2"/>
        <dynamics damping="0.1" friction="0.0"/>
        <limit effort="30" velocity="1.0" lower="-10.0" upper="10.0" />
        <axis xyz="0 1 0" />
    </joint>
    <joint name="jRightWrist_rotz" type="revolute">
        <origin xyz="0 0 0" rpy="0 0 0"/>
        <parent link="RightHand_f2"/>
        <child link="RightHand"/>
        <dynamics damping="0.1" friction="0.0"/>
        <limit effort="30" velocity="1.0" lower="-10.0" upper="10.0" />
        <axis xyz="0 0 1" />
    </joint>
	<!--Chain from (12) to (15)-->
	<joint name="jLeftC7Shoulder_rotx" type="revolute">
        <origin xyz="0    0.027586    0.063241" rpy="0 0 0"/>
        <parent link="T8"/>
        <child link="LeftShoulder_f1"/>
        <dynamics damping="0.1" friction="0.0"/>
        <limit effort="30" velocity="1.0" lower="-10.0" upper="10.0" />
        <axis xyz="1 0 0" />
    </joint>
	<joint name="jLeftC7Shoulder_roty" type="revolute">
        <origin xyz="0 0 0" rpy="0 0 0"/>
        <parent link="LeftShoulder_f1"/>
        <child link="LeftShoulder_f2"/>
        <dynamics damping="0.1" friction="0.0"/>
        <limit effort="30" velocity="1.0" lower="-10.0" upper="10.0" />
        <axis xyz="0 1 0" />
    </joint>
    <joint name="jLeftC7Shoulder_rotz" type="revolute">
        <origin xyz="0 0 0" rpy="0 0 0"/>
        <parent link="LeftShoulder_f2"/>
        <child link="LeftShoulder"/>
        <dynamics damping="0.1" friction="0.0"/>
        <limit effort="30" velocity="1.0" lower="-10.0" upper="10.0" />
        <axis xyz="0 0 1" />
    </joint>
	<joint name="jLeftShoulder_rotx" type="revolute">
        <origin xyz="0     0.14666           0" rpy="0 0 0"/>
        <parent link="LeftShoulder"/>
        <child link="LeftUpperArm_f1"/>
        <dynamics damping="0.1" friction="0.0"/>
        <limit effort="30" velocity="1.0" lower="-10.0" upper="10.0" />
        <axis xyz="1 0 0" />
    </joint>
	<joint name="jLeftShoulder_roty" type="revolute">
        <origin xyz="0 0 0" rpy="0 0 0"/>
        <parent link="LeftUpperArm_f1"/>
        <child link="LeftUpperArm_f2"/>
        <dynamics damping="0.1" friction="0.0"/>
        <limit effort="30" velocity="1.0" lower="-10.0" upper="10.0" />
        <axis xyz="0 1 0" />
    </joint>
    <joint name="jLeftShoulder_rotz" type="revolute">
        <origin xyz="0 0 0" rpy="0 0 0"/>
        <parent link="LeftUpperArm_f2"/>
        <child link="LeftUpperArm"/>
        <dynamics damping="0.1" friction="0.0"/>
        <limit effort="30" velocity="1.0" lower="-10.0" upper="10.0" />
        <axis xyz="0 0 1" />
    </joint>
    <joint name="jLeftElbow_rotx" type="revolute">
        <origin xyz="0     0.27379           0" rpy="0 0 0"/>
        <parent link="LeftUpperArm"/>
        <child link="LeftForeArm_f1"/>
        <dynamics damping="0.1" friction="0.0"/>
        <limit effort="30" velocity="1.0" lower="-10.0" upper="10.0" />
        <axis xyz="1 0 0" />
    </joint>
	<joint name="jLeftElbow_roty" type="revolute">
        <origin xyz="0 0 0" rpy="0 0 0"/>
        <parent link="LeftForeArm_f1"/>
        <child link="LeftForeArm_f2"/>
        <dynamics damping="0.1" friction="0.0"/>
        <limit effort="30" velocity="1.0" lower="-10.0" upper="10.0" />
        <axis xyz="0 1 0" />
    </joint>
    <joint name="jLeftElbow_rotz" type="revolute">
        <origin xyz="0 0 0" rpy="0 0 0"/>
        <parent link="LeftForeArm_f2"/>
        <child link="LeftForeArm"/>
        <dynamics damping="0.1" friction="0.0"/>
        <limit effort="30" velocity="1.0" lower="-10.0" upper="10.0" />
        <axis xyz="0 0 1" />
    </joint>
	<joint name="jLeftWrist_rotx" type="revolute">
        <origin xyz="0.000133     0.22718           0" rpy="0 0 0"/>
        <parent link="LeftForeArm"/>
        <child link="LeftHand_f1"/>
        <dynamics damping="0.1" friction="0.0"/>
        <limit effort="30" velocity="1.0" lower="-10.0" upper="10.0" />
        <axis xyz="1 0 0" />
    </joint>
	<joint name="jLeftWrist_roty" type="revolute">
        <origin xyz="0 0 0" rpy="0 0 0"/>
        <parent link="LeftHand_f1"/>
        <child link="LeftHand_f2"/>
        <dynamics damping="0.1" friction="0.0"/>
        <limit effort="30" velocity="1.0" lower="-10.0" upper="10.0" />
        <axis xyz="0 1 0" />
    </joint>
    <joint name="jLeftWrist_rotz" type="revolute">
        <origin xyz="0 0 0" rpy="0 0 0"/>
        <parent link="LeftHand_f2"/>
        <child link="LeftHand"/>
        <dynamics damping="0.1" friction="0.0"/>
        <limit effort="30" velocity="1.0" lower="-10.0" upper="10.0" />
        <axis xyz="0 0 1" />
    </joint>
	<!--Chain from (16) to (19)-->
	<joint name="jRightHip_rotx" type="revolute">
        <origin xyz="0.000262     -0.1035    0.002571" rpy="0 0 0"/>
        <parent link="Pelvis"/>
        <child link="RightUpperLeg_f1"/>
        <dynamics damping="0.1" friction="0.0"/>
        <limit effort="30" velocity="1.0" lower="-10.0" upper="10.0" />
        <axis xyz="1 0 0" />
    </joint>
	<joint name="jRightHip_roty" type="revolute">
        <origin xyz="0 0 0" rpy="0 0 0"/>
        <parent link="RightUpperLeg_f1"/>
        <child link="RightUpperLeg_f2"/>
        <dynamics damping="0.1" friction="0.0"/>
        <limit effort="30" velocity="1.0" lower="-10.0" upper="10.0" />
        <axis xyz="0 1 0" />
    </joint>
    <joint name="jRightHip_rotz" type="revolute">
        <origin xyz="0 0 0" rpy="0 0 0"/>
        <parent link="RightUpperLeg_f2"/>
        <child link="RightUpperLeg"/>
        <dynamics damping="0.1" friction="0.0"/>
        <limit effort="30" velocity="1.0" lower="-10.0" upper="10.0" />
        <axis xyz="0 0 1" />
    </joint>
	<joint name="jRightKnee_rotx" type="revolute">
        <origin xyz="-1.8e-05           0    -0.47802" rpy="0 0 0"/>
        <parent link="RightUpperLeg"/>
        <child link="RightLowerLeg_f1"/>
        <dynamics damping="0.1" friction="0.0"/>
        <limit effort="30" velocity="1.0" lower="-10.0" upper="10.0" />
        <axis xyz="1 0 0" />
    </joint>
	<joint name="jRightKnee_roty" type="revolute">
        <origin xyz="0 0 0" rpy="0 0 0"/>
        <parent link="RightLowerLeg_f1"/>
        <child link="RightLowerLeg_f2"/>
        <dynamics damping="0.1" friction="0.0"/>
        <limit effort="30" velocity="1.0" lower="-10.0" upper="10.0" />
        <axis xyz="0 1 0" />
    </joint>
    <joint name="jRightKnee_rotz" type="revolute">
        <origin xyz="0 0 0" rpy="0 0 0"/>
        <parent link="RightLowerLeg_f2"/>
        <child link="RightLowerLeg"/>
        <dynamics damping="0.1" friction="0.0"/>
        <limit effort="30" velocity="1.0" lower="-10.0" upper="10.0" />
        <axis xyz="0 0 1" />
    </joint>
	<joint name="jRightAnkle_rotx" type="revolute">
        <origin xyz="4.5e-05           0    -0.40179" rpy="0 0 0"/>
        <parent link="RightLowerLeg"/>
        <child link="RightFoot_f1"/>
        <dynamics damping="0.1" friction="0.0"/>
        <limit effort="30" velocity="1.0" lower="-10.0" upper="10.0" />
        <axis xyz="1 0 0" />
    </joint>
	<joint name="jRightAnkle_roty" type="revolute">
        <origin xyz="0 0 0" rpy="0 0 0"/>
        <parent link="RightFoot_f1"/>
        <child link="RightFoot_f2"/>
        <dynamics damping="0.1" friction="0.0"/>
        <limit effort="30" velocity="1.0" lower="-10.0" upper="10.0" />
        <axis xyz="0 1 0" />
    </joint>
    <joint name="jRightAnkle_rotz" type="revolute">
        <origin xyz="0 0 0" rpy="0 0 0"/>
        <parent link="RightFoot_f2"/>
        <child link="RightFoot"/>
        <dynamics damping="0.1" friction="0.0"/>
        <limit effort="30" velocity="1.0" lower="-10.0" upper="10.0" />
        <axis xyz="0 0 1" />
    </joint>
	<joint name="jRightBallFoot_rotx" type="revolute">
        <origin xyz="0.15212           0   -0.065242" rpy="0 0 0"/>
        <parent link="RightFoot"/>
        <child link="RightToe_f1"/>
        <dynamics damping="0.1" friction="0.0"/>
        <limit effort="30" velocity="1.0" lower="-10.0" upper="10.0" />
        <axis xyz="1 0 0" />
    </joint>
	<joint name="jRightBallFoot_roty" type="revolute">
        <origin xyz="0 0 0" rpy="0 0 0"/>
        <parent link="RightToe_f1"/>
        <child link="RightToe_f2"/>
        <dynamics damping="0.1" friction="0.0"/>
        <limit effort="30" velocity="1.0" lower="-10.0" upper="10.0" />
        <axis xyz="0 1 0" />
    </joint>
    <joint name="jRightBallFoot_rotz" type="revolute">
        <origin xyz="0 0 0" rpy="0 0 0"/>
        <parent link="RightToe_f2"/>
        <child link="RightToe"/>
        <dynamics damping="0.1" friction="0.0"/>
        <limit effort="30" velocity="1.0" lower="-10.0" upper="10.0" />
        <axis xyz="0 0 1" />
    </joint>
	<!--Chain from (20) to (23)-->
	<joint name="jLeftHip_rotx" type="revolute">
        <origin xyz="0.000262      0.1035    0.002571" rpy="0 0 0"/>
        <parent link="Pelvis"/>
        <child link="LeftUpperLeg_f1"/>
        <dynamics damping="0.1" friction="0.0"/>
        <limit effort="30" velocity="1.0" lower="-10.0" upper="10.0" />
        <axis xyz="1 0 0" />
    </joint>
	<joint name="jLeftHip_roty" type="revolute">
        <origin xyz="0 0 0" rpy="0 0 0"/>
        <parent link="LeftUpperLeg_f1"/>
        <child link="LeftUpperLeg_f2"/>
        <dynamics damping="0.1" friction="0.0"/>
        <limit effort="30" velocity="1.0" lower="-10.0" upper="10.0" />
        <axis xyz="0 1 0" />
    </joint>
    <joint name="jLeftHip_rotz" type="revolute">
        <origin xyz="0 0 0" rpy="0 0 0"/>
        <parent link="LeftUpperLeg_f2"/>
        <child link="LeftUpperLeg"/>
        <dynamics damping="0.1" friction="0.0"/>
        <limit effort="30" velocity="1.0" lower="-10.0" upper="10.0" />
        <axis xyz="0 0 1" />
    </joint>
	<joint name="jLeftKnee_rotx" type="revolute">
        <origin xyz="-1.8e-05           0    -0.47802" rpy="0 0 0"/>
        <parent link="LeftUpperLeg"/>
        <child link="LeftLowerLeg_f1"/>
        <dynamics damping="0.1" friction="0.0"/>
        <limit effort="30" velocity="1.0" lower="-10.0" upper="10.0" />
        <axis xyz="1 0 0" />
    </joint>
	<joint name="jLeftKnee_roty" type="revolute">
        <origin xyz="0 0 0" rpy="0 0 0"/>
        <parent link="LeftLowerLeg_f1"/>
        <child link="LeftLowerLeg_f2"/>
        <dynamics damping="0.1" friction="0.0"/>
        <limit effort="30" velocity="1.0" lower="-10.0" upper="10.0" />
        <axis xyz="0 1 0" />
    </joint>
    <joint name="jLeftKnee_rotz" type="revolute">
        <origin xyz="0 0 0" rpy="0 0 0"/>
        <parent link="LeftLowerLeg_f2"/>
        <child link="LeftLowerLeg"/>
        <dynamics damping="0.1" friction="0.0"/>
        <limit effort="30" velocity="1.0" lower="-10.0" upper="10.0" />
        <axis xyz="0 0 1" />
    </joint>
	<joint name="jLeftAnkle_rotx" type="revolute">
        <origin xyz="4.5e-05           0    -0.40179" rpy="0 0 0"/>
        <parent link="LeftLowerLeg"/>
        <child link="LeftFoot_f1"/>
        <dynamics damping="0.1" friction="0.0"/>
        <limit effort="30" velocity="1.0" lower="-10.0" upper="10.0" />
        <axis xyz="1 0 0" />
    </joint>
	<joint name="jLeftAnkle_roty" type="revolute">
        <origin xyz="0 0 0" rpy="0 0 0"/>
        <parent link="LeftFoot_f1"/>
        <child link="LeftFoot_f2"/>
        <dynamics damping="0.1" friction="0.0"/>
        <limit effort="30" velocity="1.0" lower="-10.0" upper="10.0" />
        <axis xyz="0 1 0" />
    </joint>
    <joint name="jLeftAnkle_rotz" type="revolute">
        <origin xyz="0 0 0" rpy="0 0 0"/>
        <parent link="LeftFoot_f2"/>
        <child link="LeftFoot"/>
        <dynamics damping="0.1" friction="0.0"/>
        <limit effort="30" velocity="1.0" lower="-10.0" upper="10.0" />
        <axis xyz="0 0 1" />
    </joint>
	<joint name="jLeftBallFoot_rotx" type="revolute">
        <origin xyz="0.15212           0   -0.065242" rpy="0 0 0"/>
        <parent link="LeftFoot"/>
        <child link="LeftToe_f1"/>
        <dynamics damping="0.1" friction="0.0"/>
        <limit effort="30" velocity="1.0" lower="-10.0" upper="10.0" />
        <axis xyz="1 0 0" />
    </joint>
	<joint name="jLeftBallFoot_roty" type="revolute">
        <origin xyz="0 0 0" rpy="0 0 0"/>
        <parent link="LeftToe_f1"/>
        <child link="LeftToe_f2"/>
        <dynamics damping="0.1" friction="0.0"/>
        <limit effort="30" velocity="1.0" lower="-10.0" upper="10.0" />
        <axis xyz="0 1 0" />
    </joint>
    <joint name="jLeftBallFoot_rotz" type="revolute">
        <origin xyz="0 0 0" rpy="0 0 0"/>
        <parent link="LeftToe_f2"/>
        <child link="LeftToe"/>
        <dynamics damping="0.1" friction="0.0"/>
        <limit effort="30" velocity="1.0" lower="-10.0" upper="10.0" />
        <axis xyz="0 0 1" />
    </joint>

	<!-- Sensor  1-->
<sensor name="Pelvis_gyro" type="gyroscope">
<parent link="Pelvis"/>
<origin xyz="-0.071987 -6.0202e-07     0.12307" rpy="-0.021728      1.1284     -3.1314"/>
</sensor>
<sensor name="Pelvis_accelerometer" type="accelerometer">
<parent link="Pelvis"/>
<origin xyz="-0.071987 -6.0202e-07     0.12307" rpy="-0.021728      1.1284     -3.1314"/>
</sensor>
<!-- Sensor  2-->
<sensor name="T8_gyro" type="gyroscope">
<parent link="T8"/>
<origin xyz="0.12438  4.9598e-07    0.068411" rpy="-0.098341      1.1275    -0.18079"/>
</sensor>
<sensor name="T8_accelerometer" type="accelerometer">
<parent link="T8"/>
<origin xyz="0.12438  4.9598e-07    0.068411" rpy="-0.098341      1.1275    -0.18079"/>
</sensor>
<!-- Sensor  3-->
<sensor name="Head_gyro" type="gyroscope">
<parent link="Head"/>
<origin xyz="-0.084448  2.2949e-06    0.092822" rpy="2.1005    -0.13417     -1.4634"/>
</sensor>
<sensor name="Head_accelerometer" type="accelerometer">
<parent link="Head"/>
<origin xyz="-0.084448  2.2949e-06    0.092822" rpy="2.1005    -0.13417     -1.4634"/>
</sensor>
<!-- Sensor  4-->
<sensor name="RightShoulder_gyro" type="gyroscope">
<parent link="RightShoulder"/>
<origin xyz="-0.02105   -0.052626   -0.063152" rpy="1.1394    -0.27235     -1.4218"/>
</sensor>
<sensor name="RightShoulder_accelerometer" type="accelerometer">
<parent link="RightShoulder"/>
<origin xyz="-0.02105   -0.052626   -0.063152" rpy="1.1394    -0.27235     -1.4218"/>
</sensor>
<!-- Sensor  5-->
<sensor name="RightUpperArm_gyro" type="gyroscope">
<parent link="RightUpperArm"/>
<origin xyz="-0.01847   -0.092351     0.01847" rpy="-0.055952    -0.10816     -1.5715"/>
</sensor>
<sensor name="RightUpperArm_accelerometer" type="accelerometer">
<parent link="RightUpperArm"/>
<origin xyz="-0.01847   -0.092351     0.01847" rpy="-0.055952    -0.10816     -1.5715"/>
</sensor>
<!-- Sensor  6-->
<sensor name="RightForeArm_gyro" type="gyroscope">
<parent link="RightForeArm"/>
<origin xyz="0.001726    -0.18818    0.018794" rpy="-0.60149    0.046129     -1.3658"/>
</sensor>
<sensor name="RightForeArm_accelerometer" type="accelerometer">
<parent link="RightForeArm"/>
<origin xyz="0.001726    -0.18818    0.018794" rpy="-0.60149    0.046129     -1.3658"/>
</sensor>
<!-- Sensor  7-->
<sensor name="RightHand_gyro" type="gyroscope">
<parent link="RightHand"/>
<origin xyz="1.3323e-08    -0.05268    0.019156" rpy="-0.44839    -0.14972     -1.4386"/>
</sensor>
<sensor name="RightHand_accelerometer" type="accelerometer">
<parent link="RightHand"/>
<origin xyz="1.3323e-08    -0.05268    0.019156" rpy="-0.44839    -0.14972     -1.4386"/>
</sensor>
<!-- Sensor  8-->
<sensor name="LeftShoulder_gyro" type="gyroscope">
<parent link="LeftShoulder"/>
<origin xyz="-0.02105    0.052626   -0.063152" rpy="-1.0415    -0.28459      1.3133"/>
</sensor>
<sensor name="LeftShoulder_accelerometer" type="accelerometer">
<parent link="LeftShoulder"/>
<origin xyz="-0.02105    0.052626   -0.063152" rpy="-1.0415    -0.28459      1.3133"/>
</sensor>
<!-- Sensor  9-->
<sensor name="LeftUpperArm_gyro" type="gyroscope">
<parent link="LeftUpperArm"/>
<origin xyz="-0.01847    0.092351     0.01847" rpy="-0.1577   -0.030387        1.62"/>
</sensor>
<sensor name="LeftUpperArm_accelerometer" type="accelerometer">
<parent link="LeftUpperArm"/>
<origin xyz="-0.01847    0.092351     0.01847" rpy="-0.1577   -0.030387        1.62"/>
</sensor>
<!-- Sensor  10-->
<sensor name="LeftForeArm_gyro" type="gyroscope">
<parent link="LeftForeArm"/>
<origin xyz="0.0017291     0.18818    0.018794" rpy="0.2455     0.07995      1.3985"/>
</sensor>
<sensor name="LeftForeArm_accelerometer" type="accelerometer">
<parent link="LeftForeArm"/>
<origin xyz="0.0017291     0.18818    0.018794" rpy="0.2455     0.07995      1.3985"/>
</sensor>
<!-- Sensor  11-->
<sensor name="LeftHand_gyro" type="gyroscope">
<parent link="LeftHand"/>
<origin xyz="3.0003e-07     0.05268    0.019156" rpy="0.49289   -0.074408      1.5697"/>
</sensor>
<sensor name="LeftHand_accelerometer" type="accelerometer">
<parent link="LeftHand"/>
<origin xyz="3.0003e-07     0.05268    0.019156" rpy="0.49289   -0.074408      1.5697"/>
</sensor>
<!-- Sensor  12-->
<sensor name="RightUpperLeg_gyro" type="gyroscope">
<parent link="RightUpperLeg"/>
<origin xyz="0.013845   -0.048743    -0.28798" rpy="-2.9811      1.4724      1.5206"/>
</sensor>
<sensor name="RightUpperLeg_accelerometer" type="accelerometer">
<parent link="RightUpperLeg"/>
<origin xyz="0.013845   -0.048743    -0.28798" rpy="-2.9811      1.4724      1.5206"/>
</sensor>
<!-- Sensor  13-->
<sensor name="RightLowerLeg_gyro" type="gyroscope">
<parent link="RightLowerLeg"/>
<origin xyz="0.030603   0.0070053    -0.13166" rpy="-2.8522      1.3804     -2.4268"/>
</sensor>
<sensor name="RightLowerLeg_accelerometer" type="accelerometer">
<parent link="RightLowerLeg"/>
<origin xyz="0.030603   0.0070053    -0.13166" rpy="-2.8522      1.3804     -2.4268"/>
</sensor>
<!-- Sensor  14-->
<sensor name="RightFoot_gyro" type="gyroscope">
<parent link="RightFoot"/>
<origin xyz="0.087491    0.001456   -0.012352" rpy="0.16226     0.29269    -0.49561"/>
</sensor>
<sensor name="RightFoot_accelerometer" type="accelerometer">
<parent link="RightFoot"/>
<origin xyz="0.087491    0.001456   -0.012352" rpy="0.16226     0.29269    -0.49561"/>
</sensor>
<!-- Sensor  15-->
<sensor name="LeftUpperLeg_gyro" type="gyroscope">
<parent link="LeftUpperLeg"/>
<origin xyz="0.013845    0.048745    -0.28798" rpy="2.7257      1.4229      -2.191"/>
</sensor>
<sensor name="LeftUpperLeg_accelerometer" type="accelerometer">
<parent link="LeftUpperLeg"/>
<origin xyz="0.013845    0.048745    -0.28798" rpy="2.7257      1.4229      -2.191"/>
</sensor>
<!-- Sensor  16-->
<sensor name="LeftLowerLeg_gyro" type="gyroscope">
<parent link="LeftLowerLeg"/>
<origin xyz="0.030604  -0.0070048    -0.13166" rpy="2.9693      1.4312      2.4317"/>
</sensor>
<sensor name="LeftLowerLeg_accelerometer" type="accelerometer">
<parent link="LeftLowerLeg"/>
<origin xyz="0.030604  -0.0070048    -0.13166" rpy="2.9693      1.4312      2.4317"/>
</sensor>
<!-- Sensor  17-->
<sensor name="LeftFoot_gyro" type="gyroscope">
<parent link="LeftFoot"/>
<origin xyz="0.087491   -0.001456   -0.012352" rpy="-0.12974     0.35273     0.38485"/>
</sensor>
<sensor name="LeftFoot_accelerometer" type="accelerometer">
<parent link="LeftFoot"/>
<origin xyz="0.087491   -0.001456   -0.012352" rpy="-0.12974     0.35273     0.38485"/>
</sensor>


</robot>
